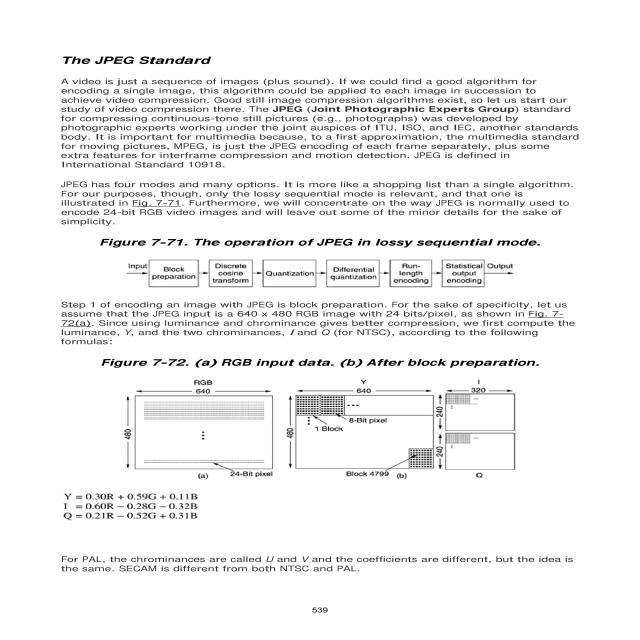diagram: (47, 230, 598, 356), (63, 352, 555, 482)
